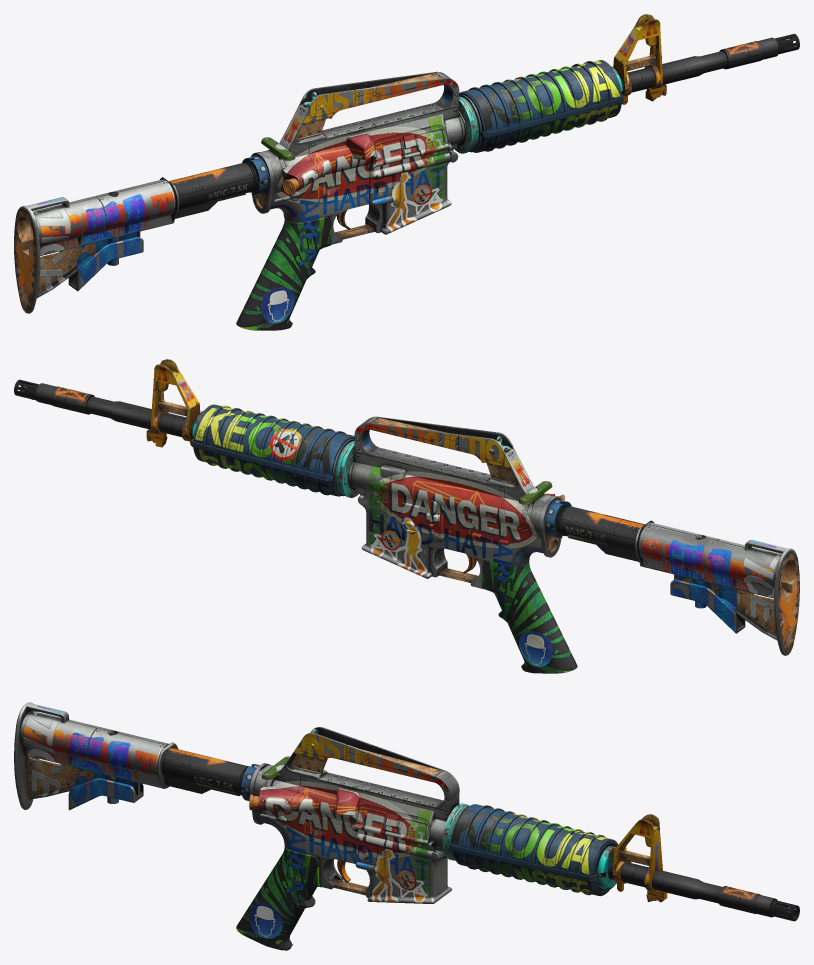
File: w_carbinerifle_danger.glb
The picture shows the model from 3 angles, top to bottom: view 1: azimuth 30°, elevation 25°; view 2: azimuth 150°, elevation 25°; view 3: azimuth 330°, elevation 25°; orthographic projection.
Visible parts, largest first — view 1: Gun_Root; view 2: Gun_Root; view 3: Gun_Root.
Boxes of the visible parts, left/top/right/bottom form: Gun_Root: left=14, top=14, right=799, bottom=330; Gun_Root: left=14, top=359, right=799, bottom=673; Gun_Root: left=14, top=702, right=799, bottom=950.
Bounding box in the file's own units: 0.7831 × 0.2196 × 0.0717.
1 material, 1 textured.
